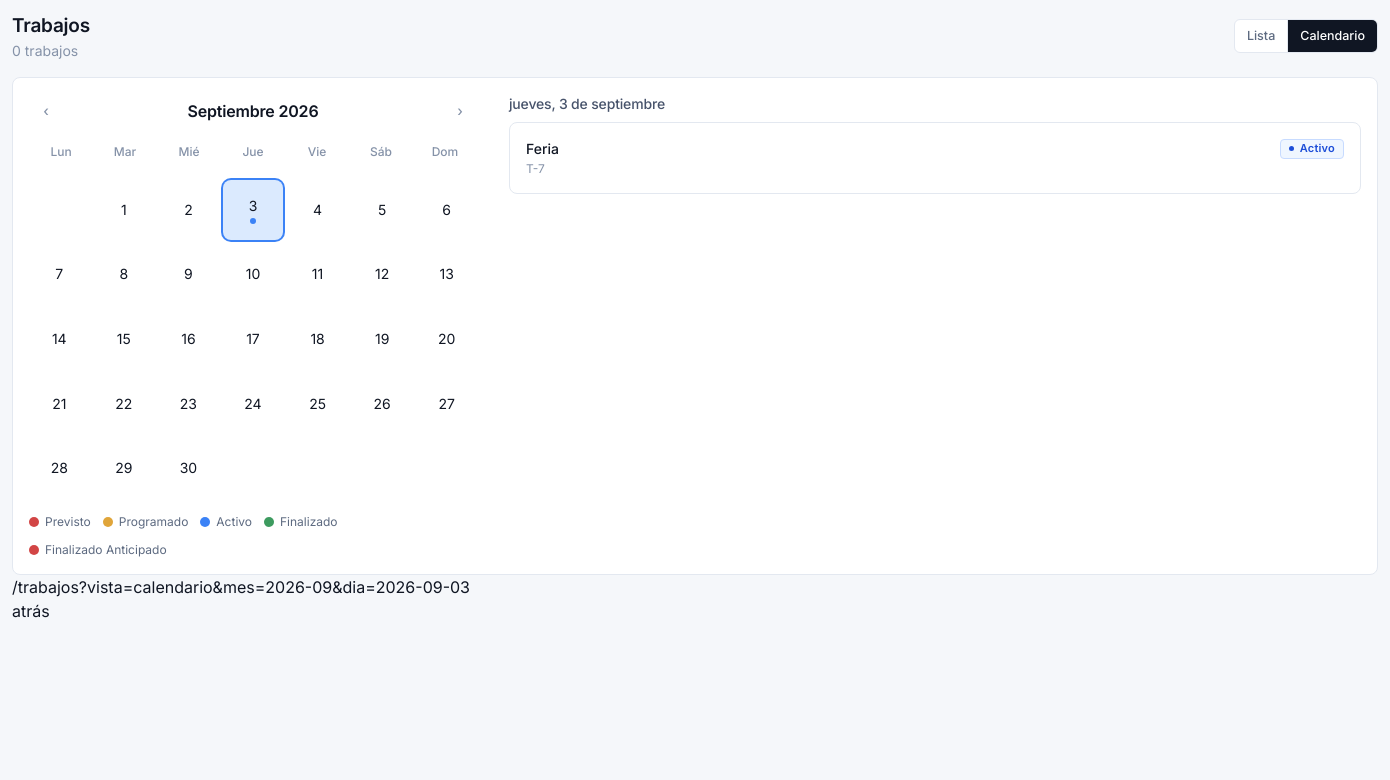
Test case: TrabajoList: el calendario sobrevive a abrir un trabajo › el mes y el día de la URL; cambiar de mes lo apunta sin perder el día
This screenshot has width=1390, height=780.
Expected: the button "Feria T-7 Activo" is shown, [509,122,1361,194]
Click the button named "Mes siguiente".
click(460, 110)  # box [443,94,477,128]
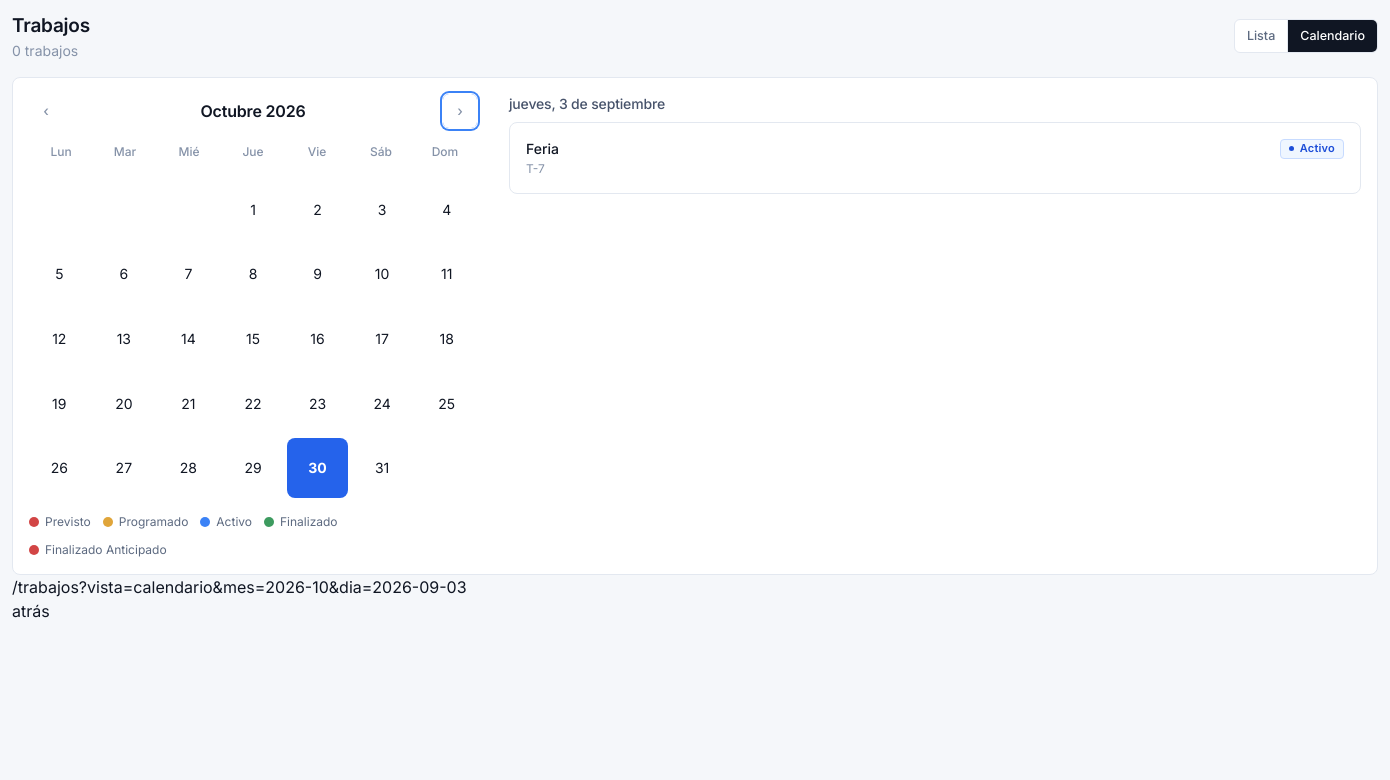
Result: the text with test id "donde" reads "/trabajos?vista=calendario&mes=2026-10&dia=2026-09-03" at [12,577,467,597]
